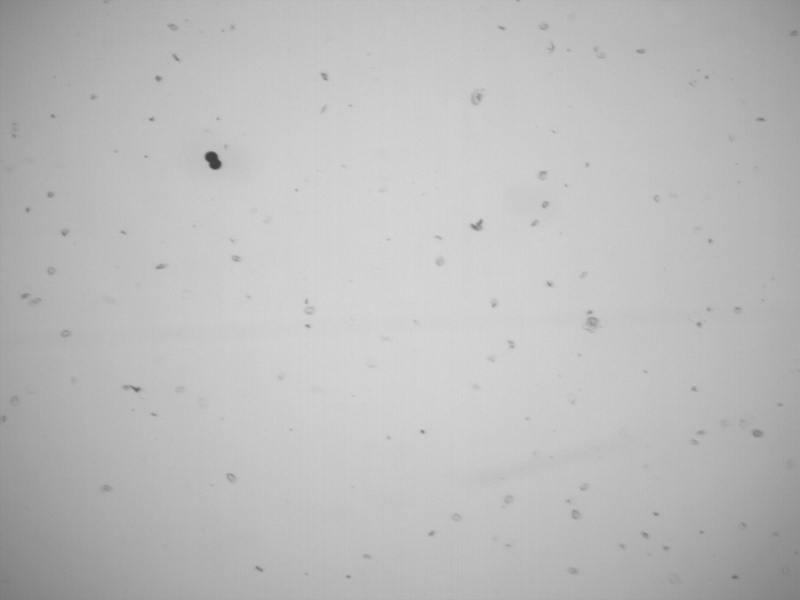bead: (208, 159, 224, 171), (204, 150, 219, 162)
